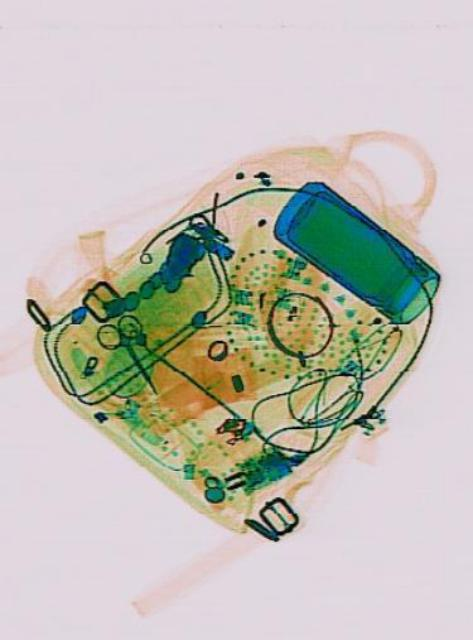Scissors: (91, 300, 171, 408)
